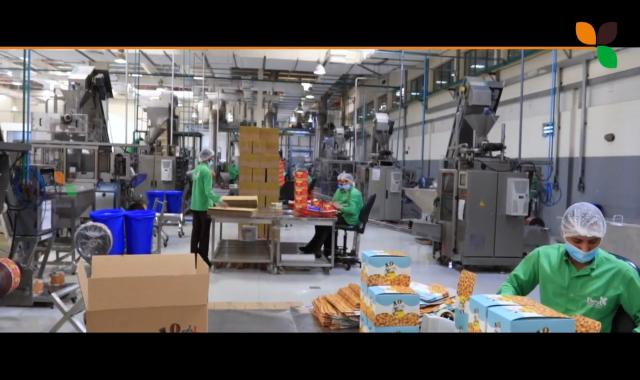hairnet: (561, 202, 606, 263), (198, 146, 212, 164), (339, 170, 354, 186)
